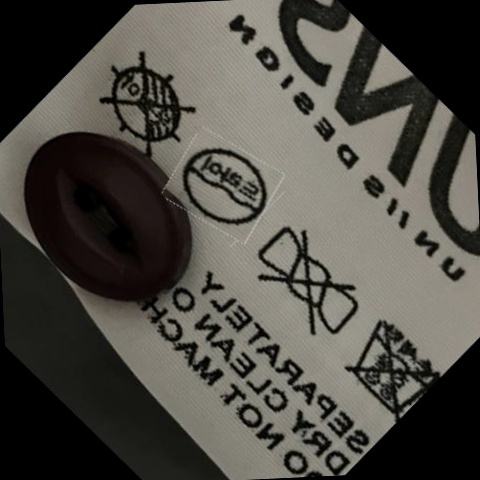DN_dry: (99, 56, 195, 153)
DN_wring: (254, 231, 362, 338)
dry_clean: (181, 142, 266, 232)
hand_wash: (345, 313, 434, 413)
